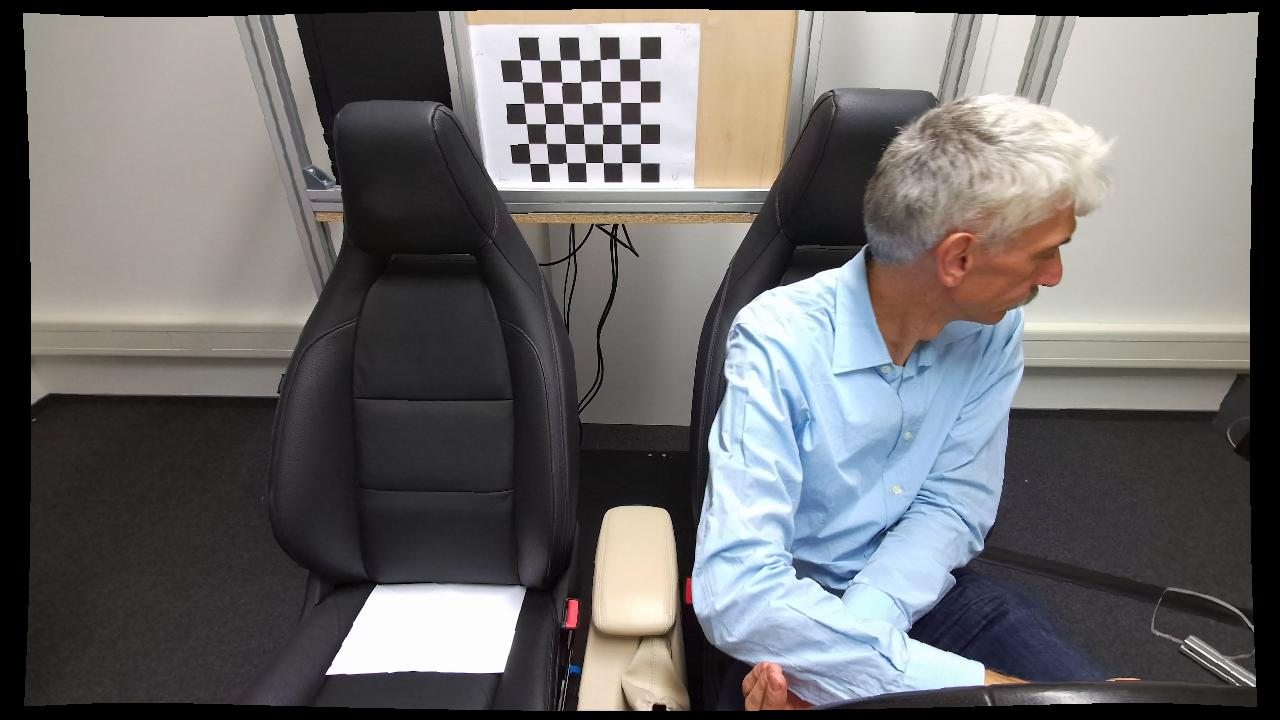Distracted: (693, 86, 1122, 712)
